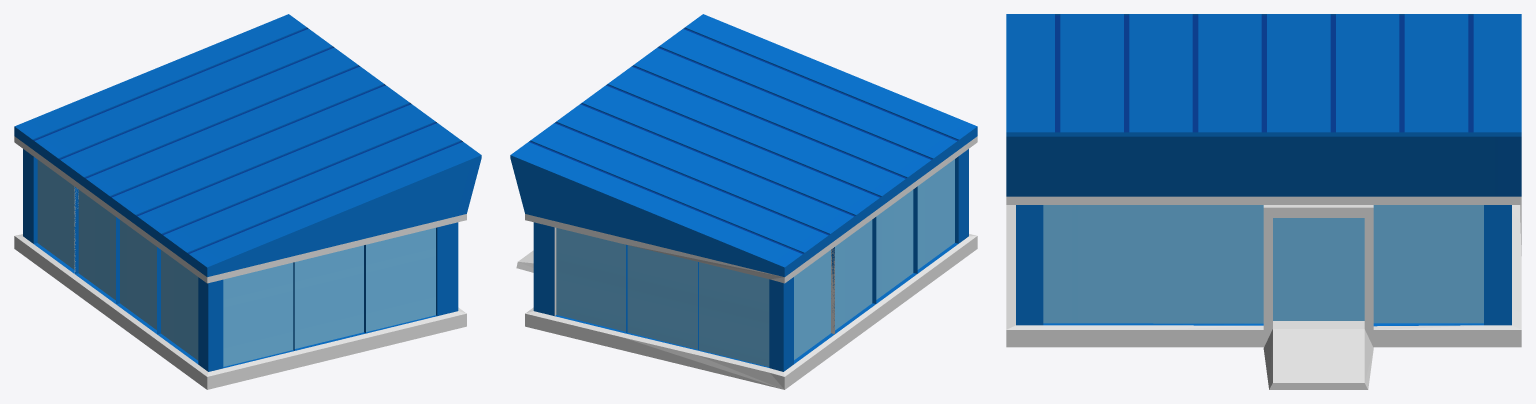
The picture shows the model from 3 angles, left to right: view 1: azimuth 30°, elevation 25°; view 2: azimuth 150°, elevation 25°; view 3: azimuth 270°, elevation 25°; orthographic projection. The views are drawn at different scales.
Visible parts, largest first — view 1: Shop.001; view 2: Shop.001; view 3: Shop.001.
Part boxes in pixels (left/top/right/bottom): Shop.001: left=14, top=14, right=481, bottom=389; Shop.001: left=510, top=14, right=977, bottom=389; Shop.001: left=1006, top=14, right=1521, bottom=389.
Bounding box in the file's own units: 365 × 180 × 374.
